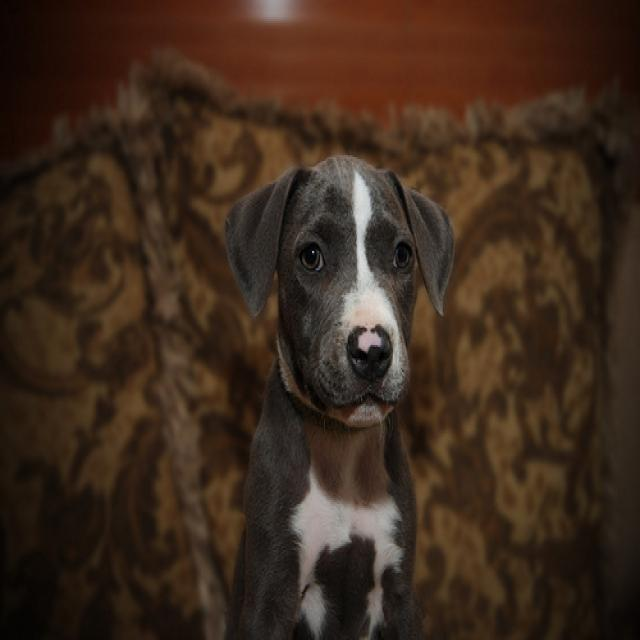dog-american_pit_bull_terrier: (214, 140, 462, 636)
